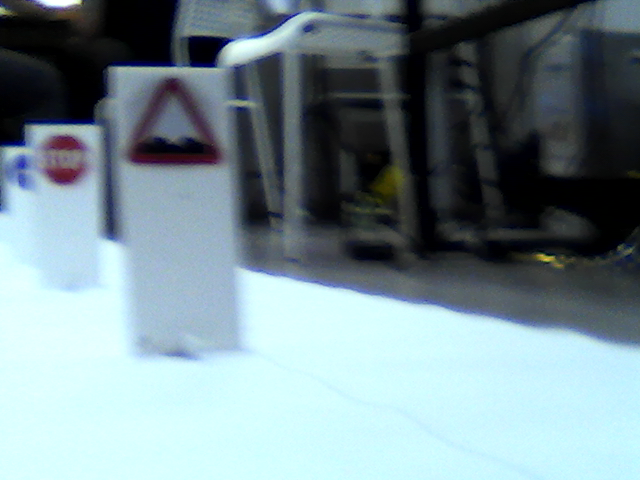Nerov: (125, 76, 222, 170)
Stop: (37, 134, 88, 181)
